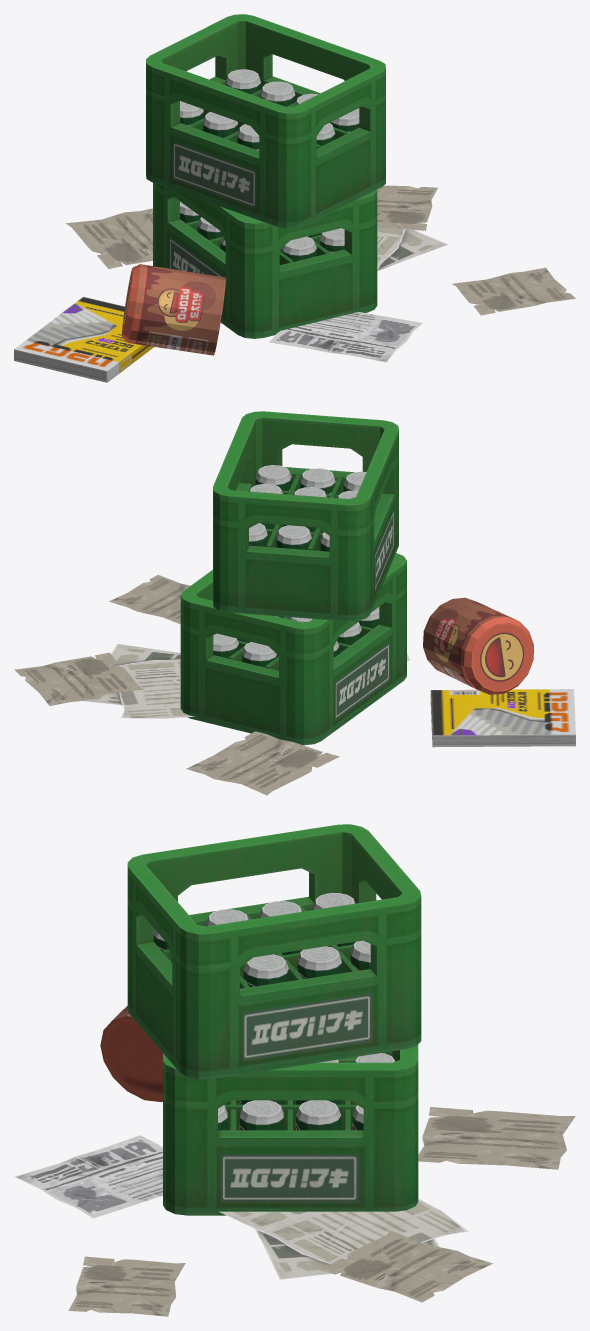
Rendered from P_NEWMaket01_after03.obj.
3 views of the same model, one above another, from view 1: azimuth 30°, elevation 25°; view 2: azimuth 150°, elevation 25°; view 3: azimuth 270°, elevation 25° (orthographic). The views are drawn at different scales.
Bounding box in the file's own units: 2.26 × 1 × 1.75.
9 materials, 9 textured.
